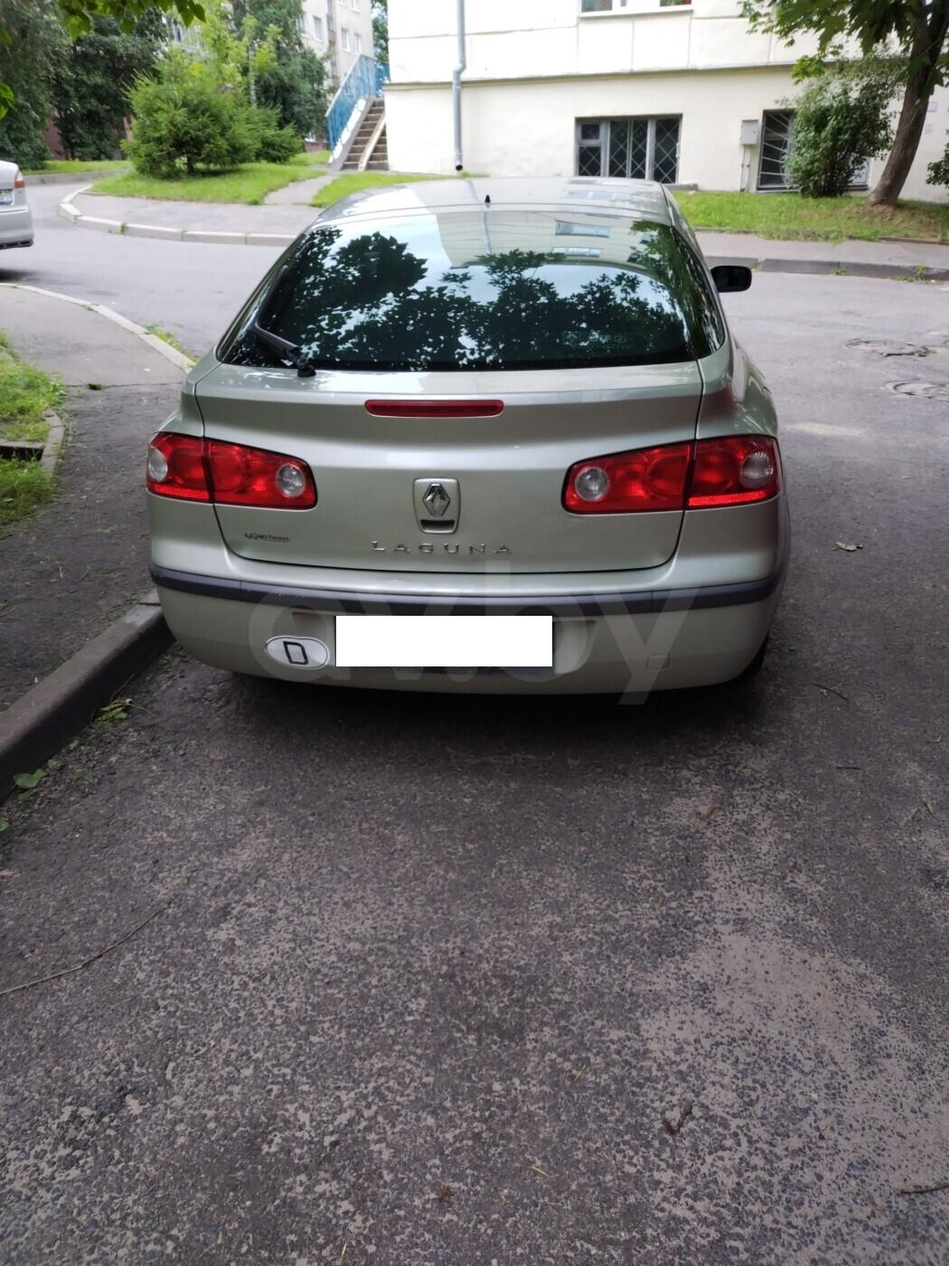Laguna_2005-2007: (139, 177, 799, 731)
